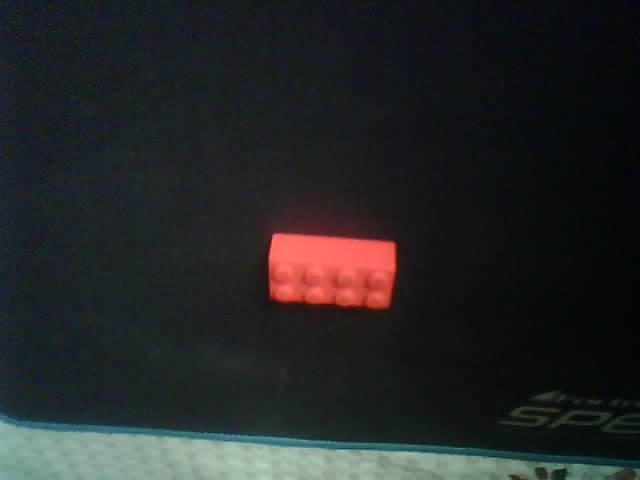lego: (265, 231, 397, 313)
